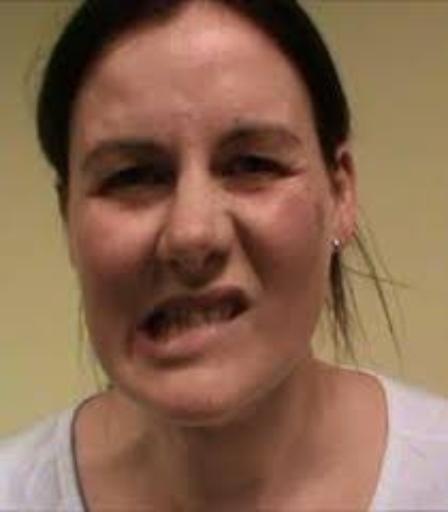left_eye: (222, 154, 298, 183)
left_lip_corner: (237, 296, 259, 321)
right_eye: (97, 166, 167, 196)
right_lip_corner: (125, 316, 156, 342)
